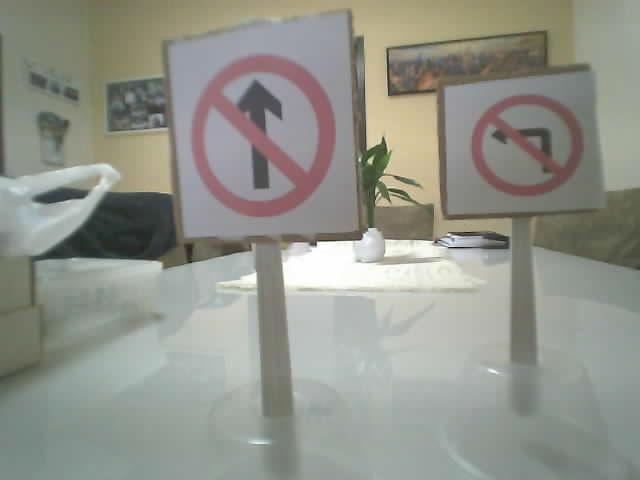R-3_sentido-proibido: (190, 54, 336, 217)
R-4a_proibido-esquerda: (468, 93, 583, 197)
